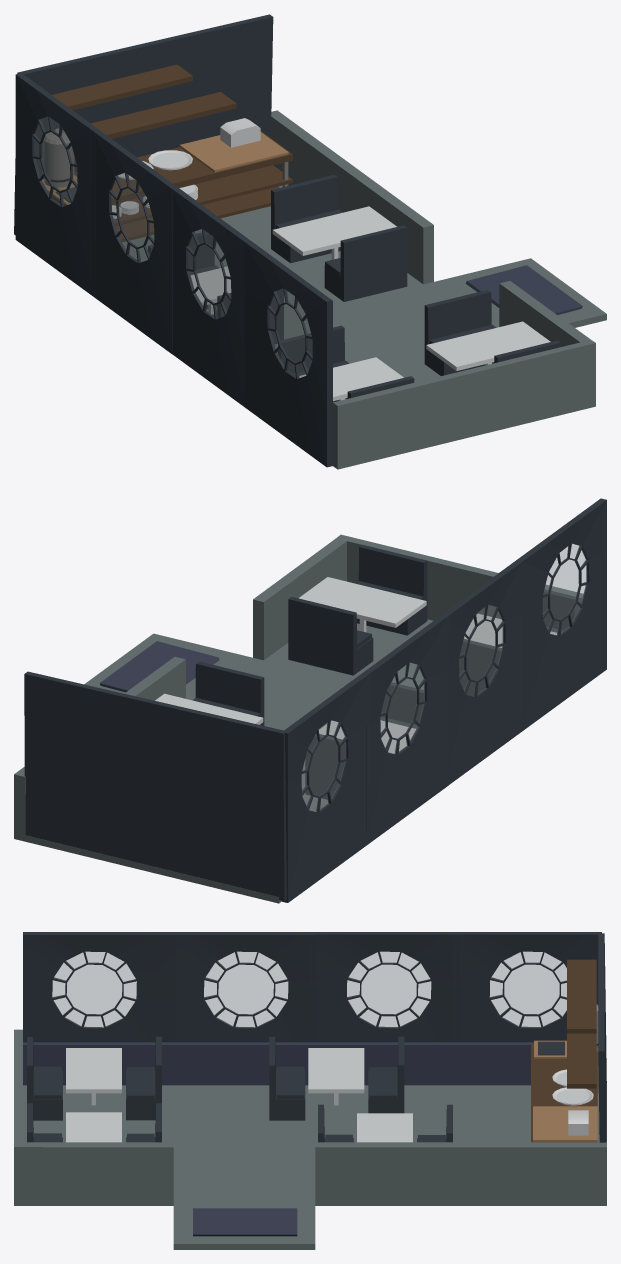
File: kitchen.fbx
3 renders of one model, top to bottom at view 1: azimuth 30°, elevation 25°; view 2: azimuth 150°, elevation 25°; view 3: azimuth 270°, elevation 25°, orthographic. The views are drawn at different scales.
Visible parts, largest first — view 1: kitchen_floor_GEO, kitchen_wall_GEO, window_pane_GEO6, window_pane_GEO3, window_pane_GEO2, window_pane_GEO, kitchen_table_GEO1, booth_chair, booth_chair1, booth_chair4, booth_table, booth_table2 (+16 smaller); view 2: kitchen_wall_GEO, kitchen_floor_GEO, window_pane_GEO6, window_pane_GEO3, window_pane_GEO2, window_pane_GEO, booth_chair4, booth_chair5, booth_table2, booth_chair, window_glass_GEO2, window_glass_GEO (+10 smaller); view 3: kitchen_floor_GEO, wall_trim_GEO, window_pane_GEO6, window_pane_GEO2, window_pane_GEO, window_pane_GEO3, window_glass_GEO2, window_glass_GEO, window_glass_GEO6, window_glass_GEO3, rug_GEO4, booth_table1 (+18 smaller).
Boxes of the visible parts, bbox=[...] form: kitchen_floor_GEO: bbox=[122, 110, 606, 469]; kitchen_wall_GEO: bbox=[14, 14, 273, 235]; window_pane_GEO6: bbox=[244, 240, 332, 467]; window_pane_GEO3: bbox=[15, 73, 97, 297]; window_pane_GEO2: bbox=[92, 129, 177, 353]; window_pane_GEO: bbox=[169, 185, 249, 406]; kitchen_table_GEO1: bbox=[52, 131, 292, 242]; booth_chair: bbox=[324, 225, 407, 301]; booth_chair1: bbox=[271, 174, 342, 263]; booth_chair4: bbox=[424, 290, 496, 375]; booth_table: bbox=[272, 206, 396, 259]; booth_table2: bbox=[426, 321, 550, 370]; kitchen_wall_GEO: bbox=[24, 671, 286, 901]; kitchen_floor_GEO: bbox=[14, 534, 583, 903]; window_pane_GEO6: bbox=[516, 498, 606, 730]; window_pane_GEO3: bbox=[282, 672, 369, 902]; window_pane_GEO2: bbox=[364, 614, 448, 844]; window_pane_GEO: bbox=[440, 560, 522, 784]; booth_chair4: bbox=[288, 597, 373, 675]; booth_chair5: bbox=[356, 544, 427, 635]; booth_table2: bbox=[299, 577, 426, 632]; booth_chair: bbox=[192, 661, 264, 725]; window_glass_GEO2: bbox=[380, 663, 424, 754]; window_glass_GEO: bbox=[459, 605, 503, 696]; kitchen_floor_GEO: bbox=[14, 1029, 606, 1249]; wall_trim_GEO: bbox=[23, 1042, 533, 1085]; window_pane_GEO6: bbox=[23, 932, 176, 1042]; window_pane_GEO2: bbox=[310, 932, 459, 1042]; window_pane_GEO: bbox=[176, 932, 316, 1042]; window_pane_GEO3: bbox=[453, 932, 601, 1042]; window_glass_GEO2: bbox=[347, 952, 430, 1027]; window_glass_GEO: bbox=[204, 952, 287, 1027]; window_glass_GEO6: bbox=[52, 952, 136, 1027]; window_glass_GEO3: bbox=[490, 952, 566, 1027]; rug_GEO4: bbox=[193, 1208, 297, 1236]; booth_table1: bbox=[308, 1048, 364, 1105].
Size of the model in its own units: 696 by 305 by 1064.
